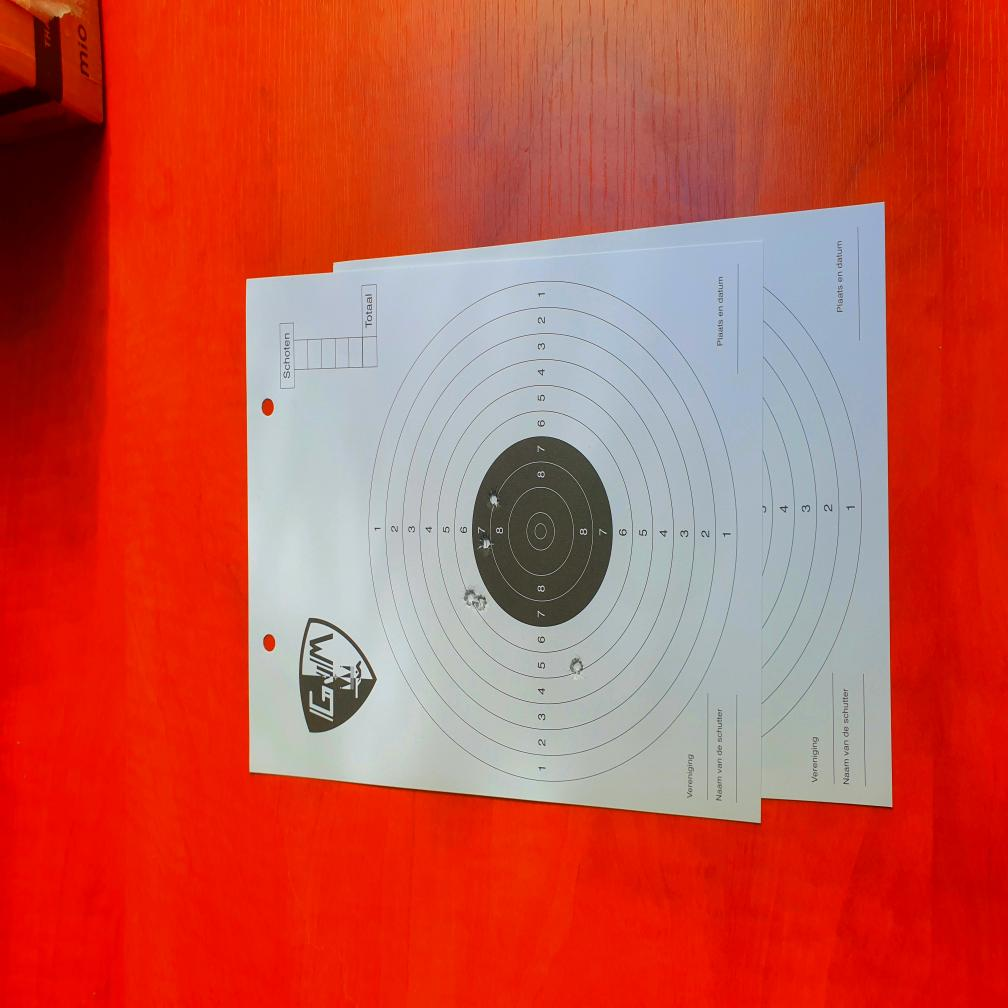5: (566, 653, 585, 682)
6: (463, 587, 475, 609), (476, 593, 488, 613)
8: (478, 533, 495, 556), (486, 489, 501, 509)
Target: (369, 282, 735, 783)
black_contour: (471, 436, 613, 628)
